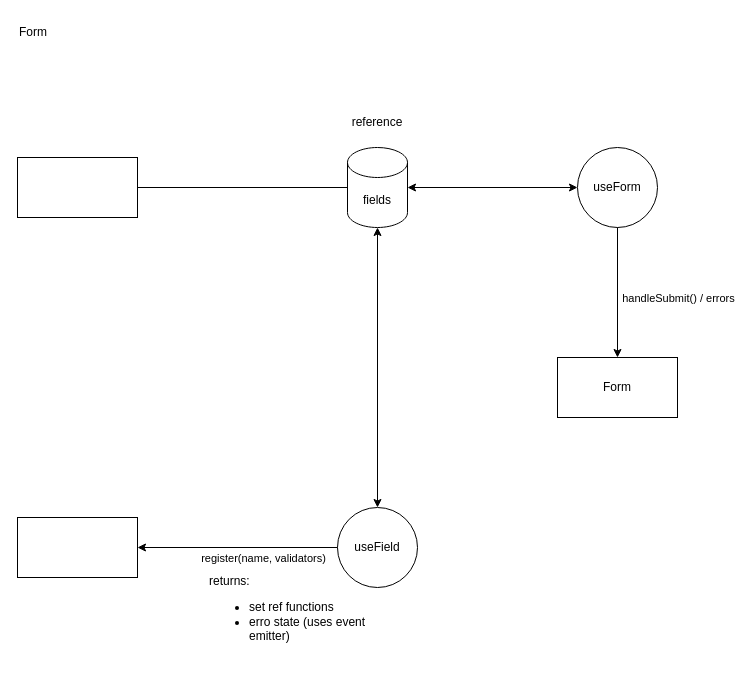
Some shapes in this 752 by 673 pixel diagram are drawn without their labels. Here are the shapes that lost their labels. From the top down, the centre of each, then its label:
At [77,187]: "FormContext".
At [77,547]: "Input".
